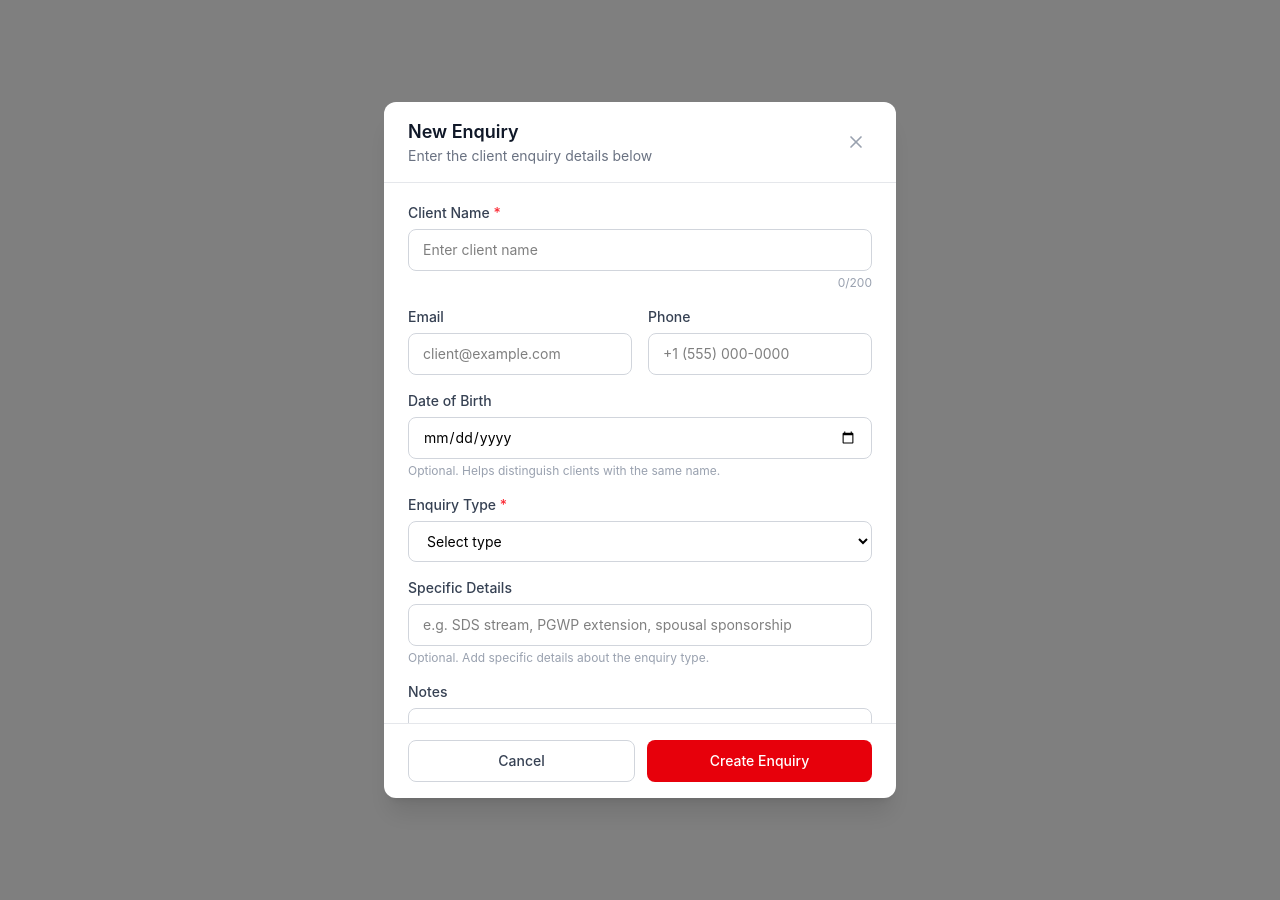
Test: AddEnquiryModal Component › Form Validation › should show error for empty client name
The image size is (1280, 900).
Click the button "Create Enquiry": (760, 761) [647,740,872,782]
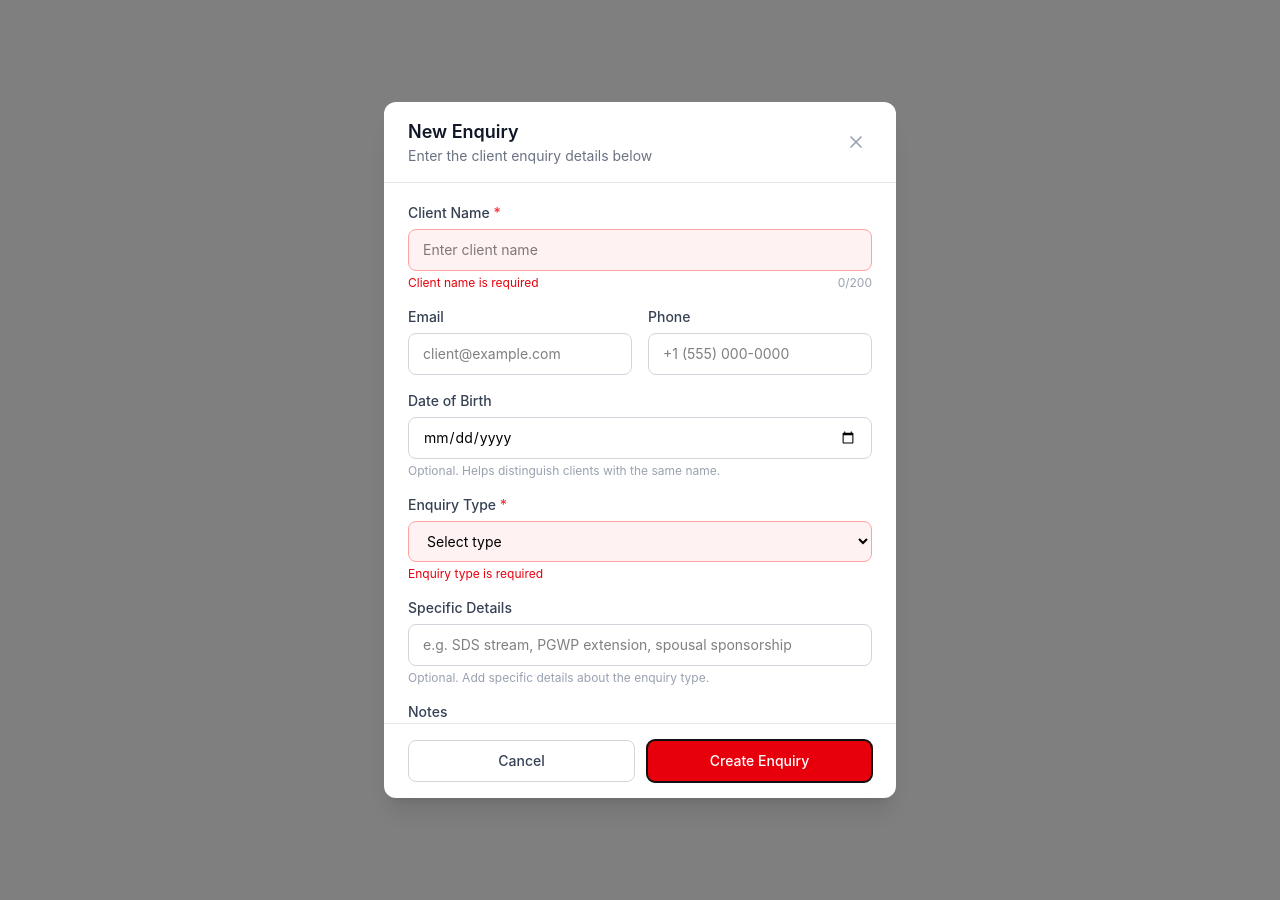
Expected: the text "Client name is required" is shown, [408,275,539,291]
